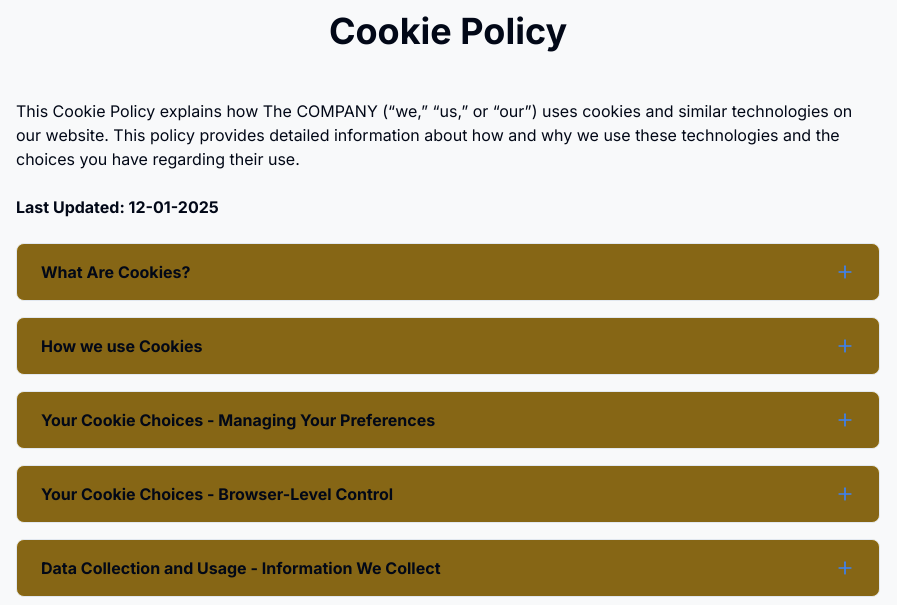
Scenario: CookiePolicy Page › toggles section content when clicked
Expected: the text "cookies are small text files" is not shown
Note: Click to open
Click the button "What Are Cookies?".
click(116, 272)  # box [17,244,879,300]
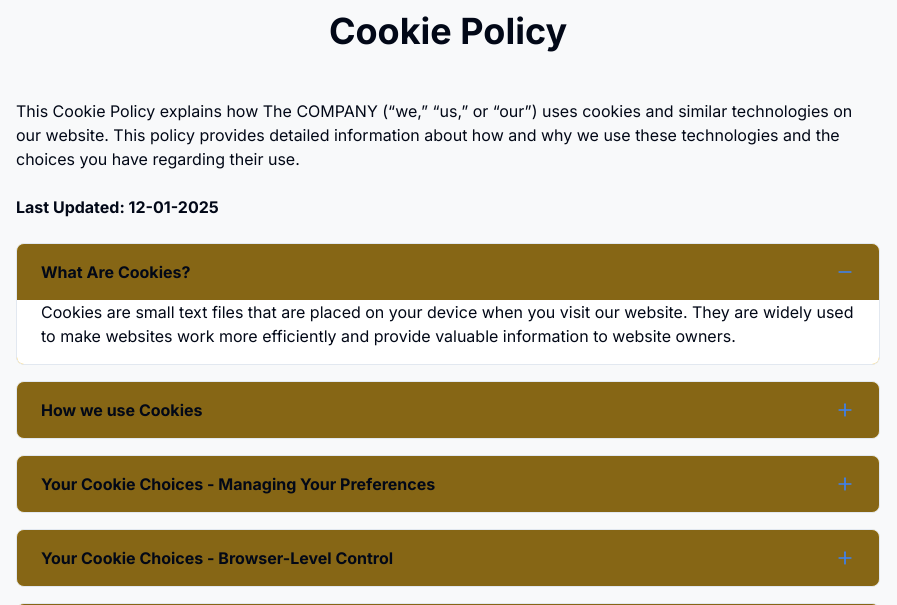
Result: the text "Cookies are small text files" is shown at [41,302,858,346]
Note: Click to close
Click the button "What Are Cookies?".
click(116, 272)  # box [17,244,879,300]
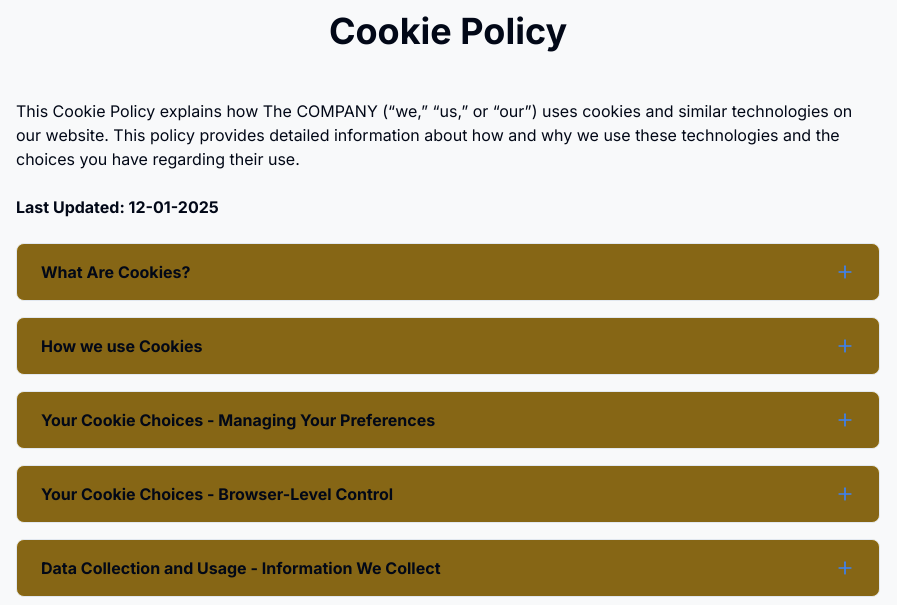
Result: the text "Cookies are small text files" is gone
